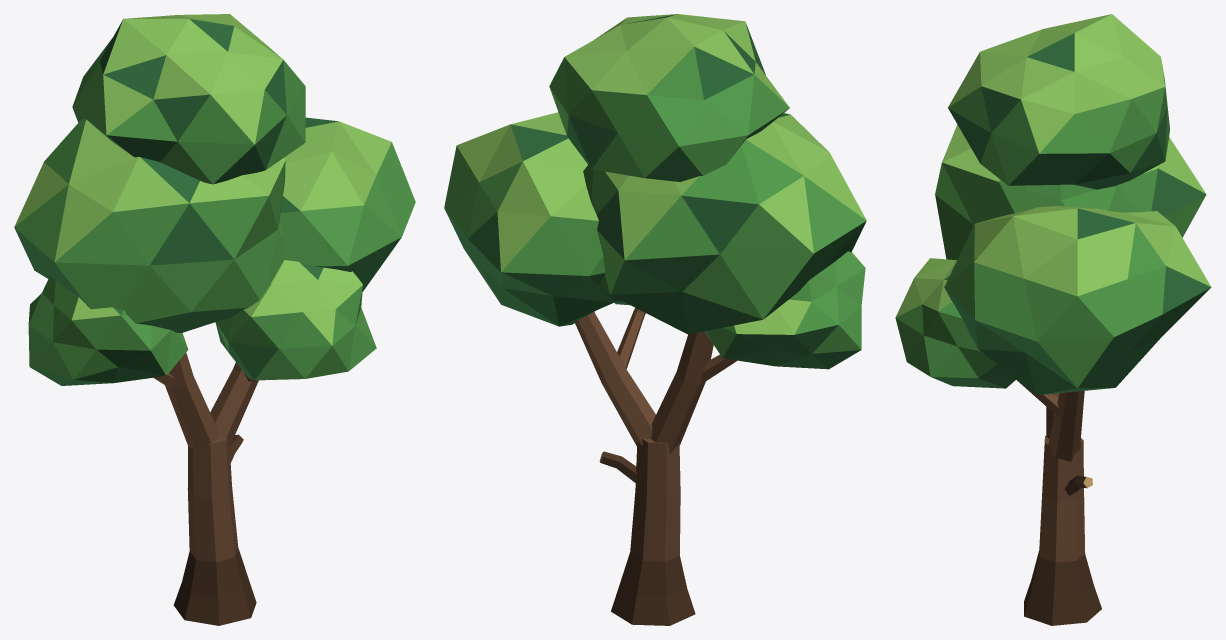
The model's file is tree_oak_b.glb.
3 views of the same model, side by side, from view 1: azimuth 30°, elevation 25°; view 2: azimuth 150°, elevation 25°; view 3: azimuth 270°, elevation 25° (orthographic). The views are drawn at different scales.
Visible parts, largest first — view 1: tree_oak_b__mesh; view 2: tree_oak_b__mesh; view 3: tree_oak_b__mesh.
Boxes of the visible parts, x1=… form: tree_oak_b__mesh: x1=14, y1=14, x2=415, y2=625; tree_oak_b__mesh: x1=444, y1=14, x2=866, y2=625; tree_oak_b__mesh: x1=895, y1=14, x2=1211, y2=625.
Size of the model in its own units: 7.75 by 11.4 by 5.76.
2 materials, 2 textured.
